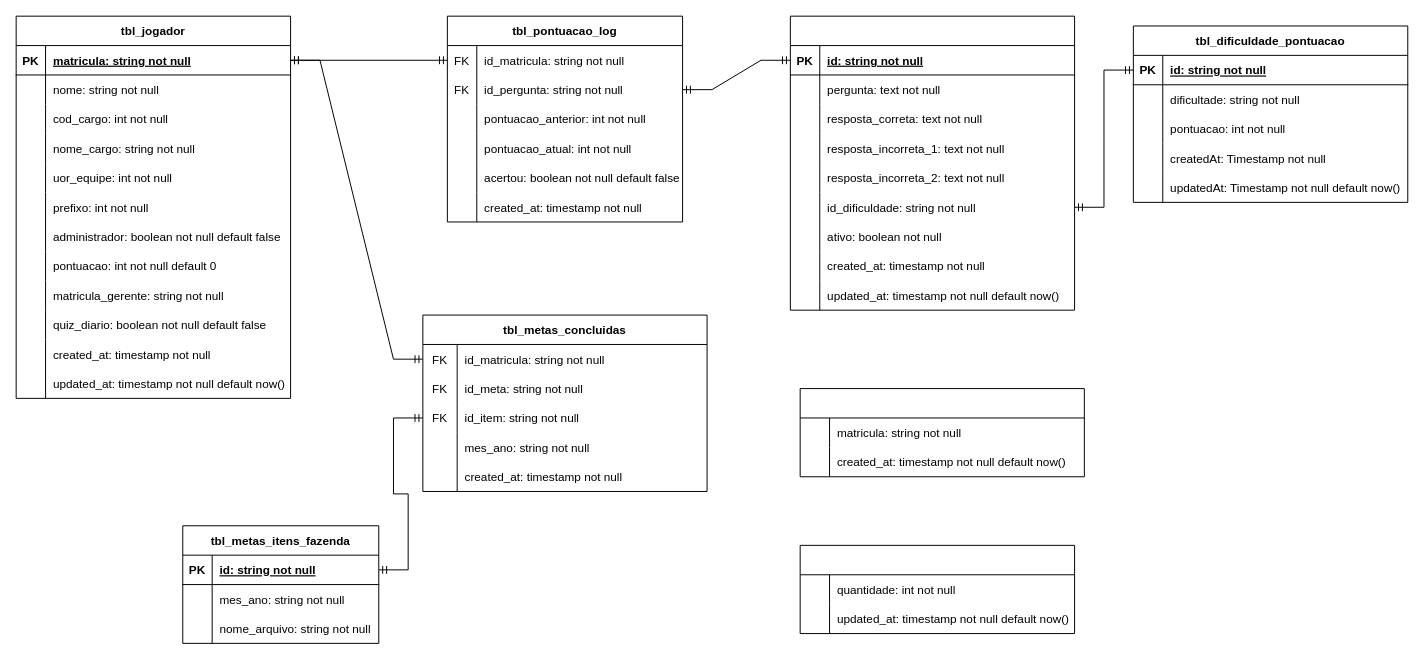
This 1424x660 diagram has some shape labels left out. The shapes that lost their labels are listed below. From the top down, each one's box as (x1, y1, x2, y2) in pixels, then its label:
(789, 15, 1075, 310): tbl_quiz
(799, 388, 1084, 477): tbl_log_acessos_totais
(799, 544, 1075, 634): tbl_log_acessos
